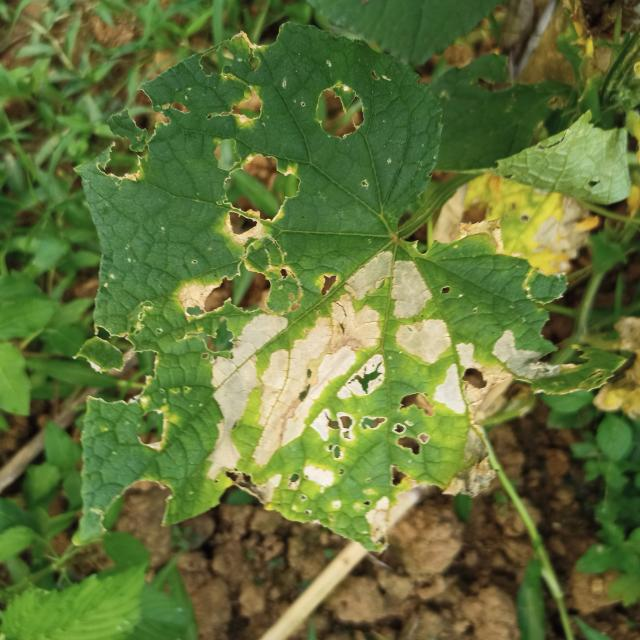disease_cucumber: (108, 70, 313, 468), (198, 261, 536, 496)
